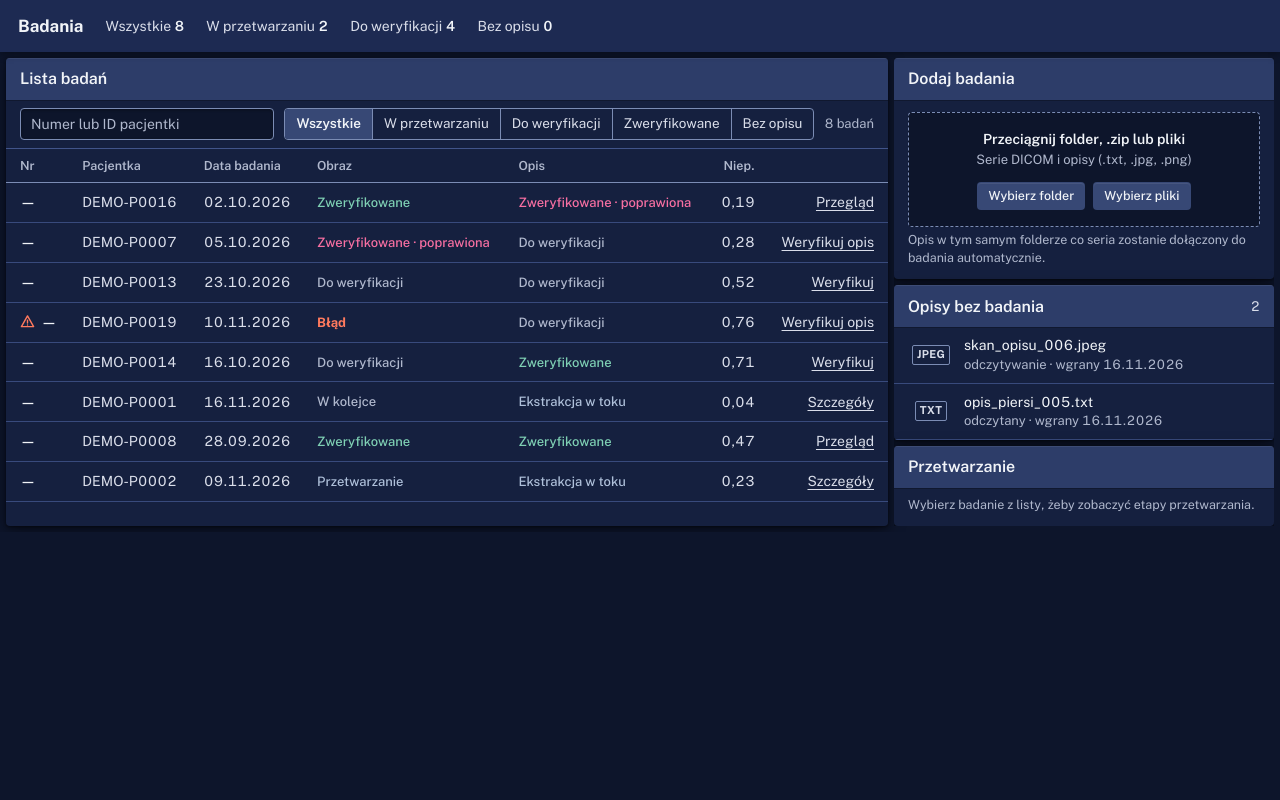
StudiesPage › says why the backend kept a report it is still reading
Step 1. Click the text "skan_opisu_006.jpeg" → [1035, 345], box left=964, top=337, right=1106, bottom=353
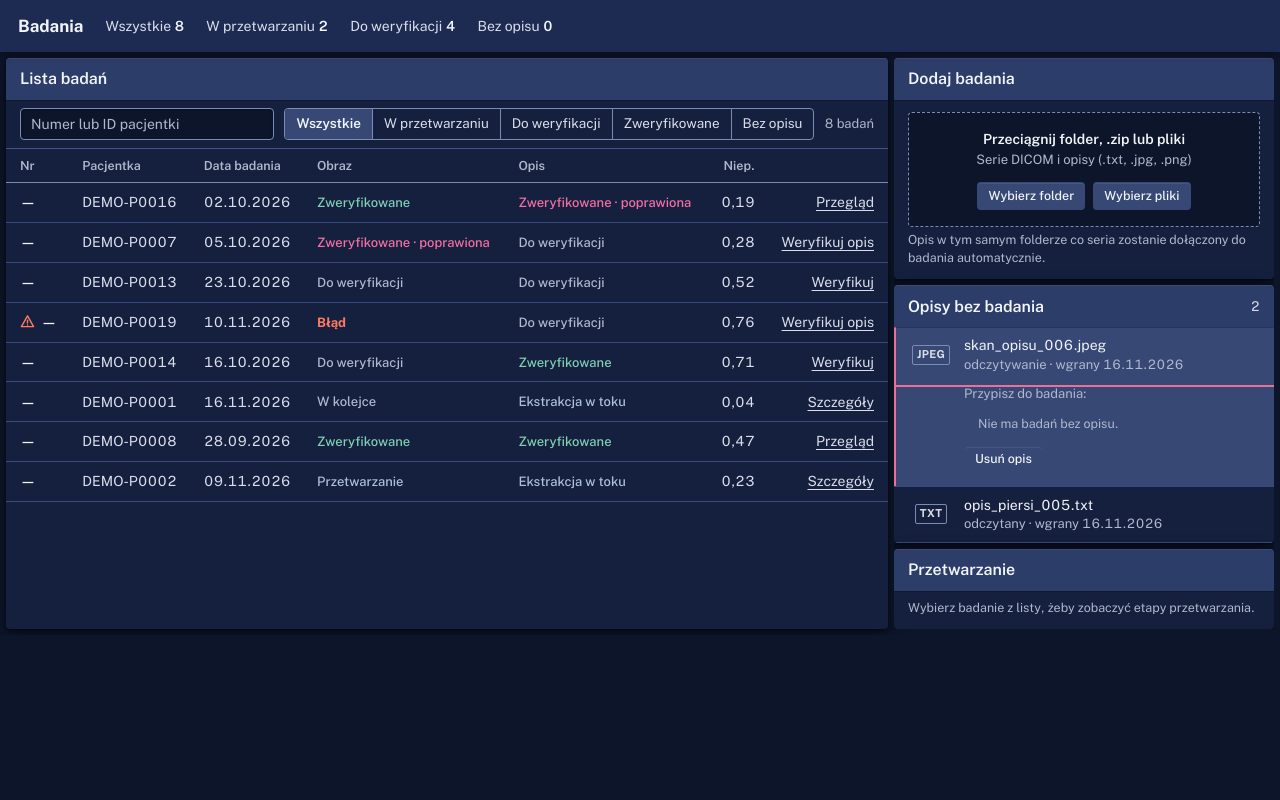
Step 2. Click the button "Usuń opis" → [1003, 460], box left=964, top=446, right=1043, bottom=474
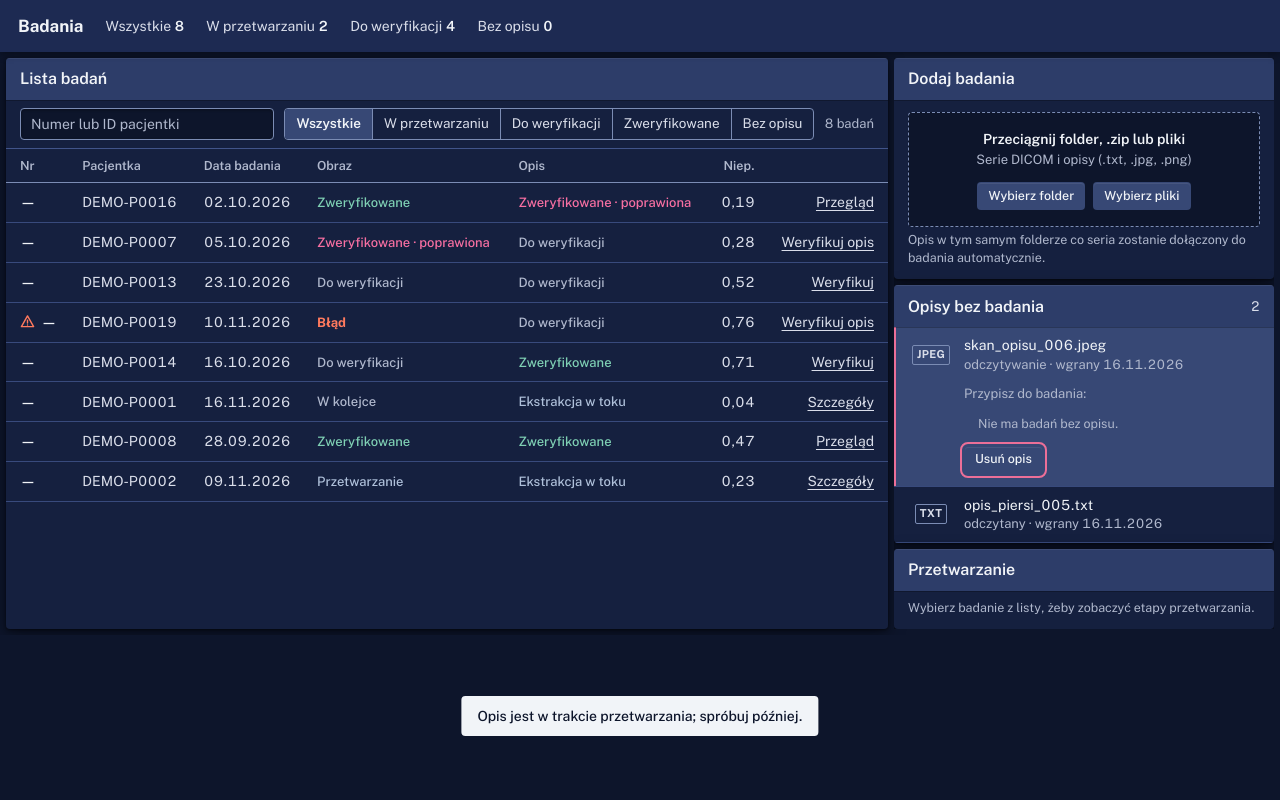
Check: the text "Opis jest w trakcie przetwarzania; spróbuj później." is shown, box left=461, top=696, right=819, bottom=736
